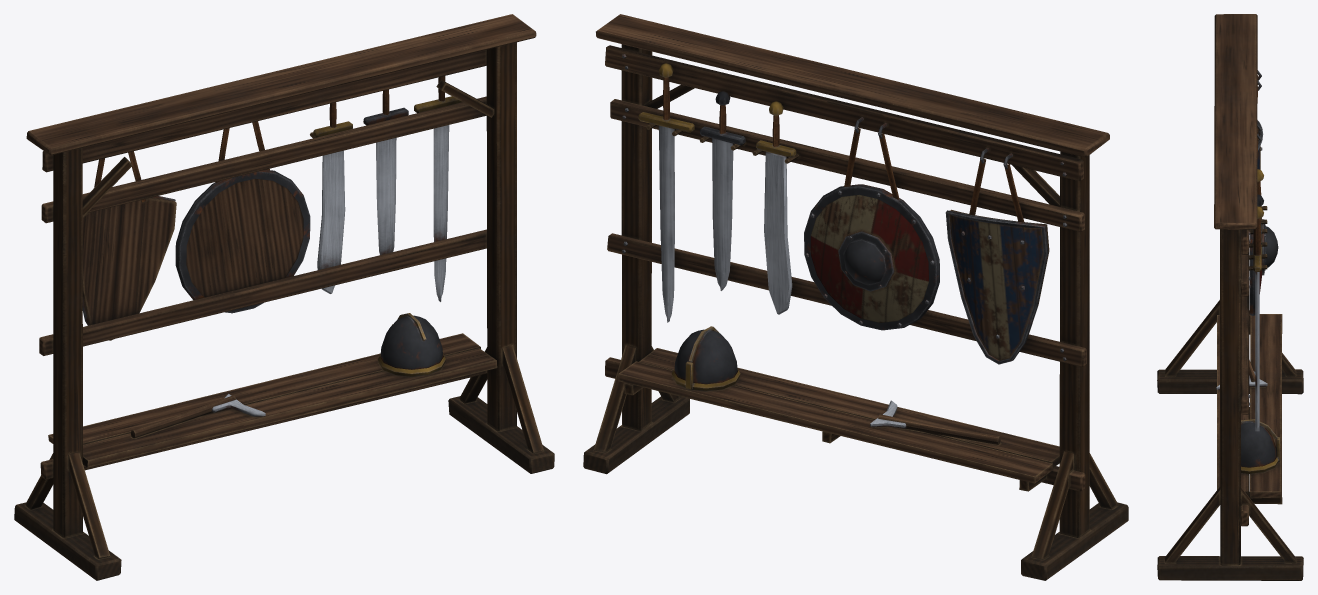
The model's file is forja_estanteria.fbx.
The picture shows the model from 3 angles, left to right: view 1: azimuth 30°, elevation 25°; view 2: azimuth 150°, elevation 25°; view 3: azimuth 270°, elevation 25°; orthographic projection. The views are drawn at different scales.
Parts seen in each view (by area): view 1: forja_estanteria; view 2: forja_estanteria; view 3: forja_estanteria.
Boxes of the visible parts, bbox=[...] form: forja_estanteria: bbox=[14, 14, 554, 580]; forja_estanteria: bbox=[583, 14, 1128, 580]; forja_estanteria: bbox=[1157, 14, 1303, 580].
Size of the model in its own units: 9.21 by 7.46 by 2.72.
Materials: 1 (1 with a texture image).
